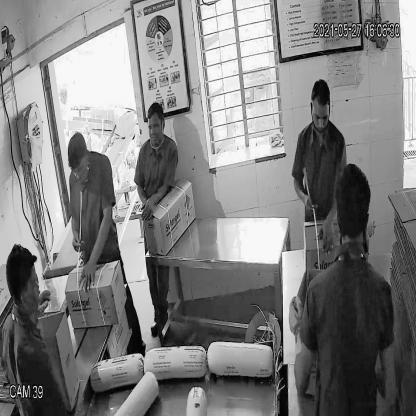no_goggles: (309, 108, 333, 128)
